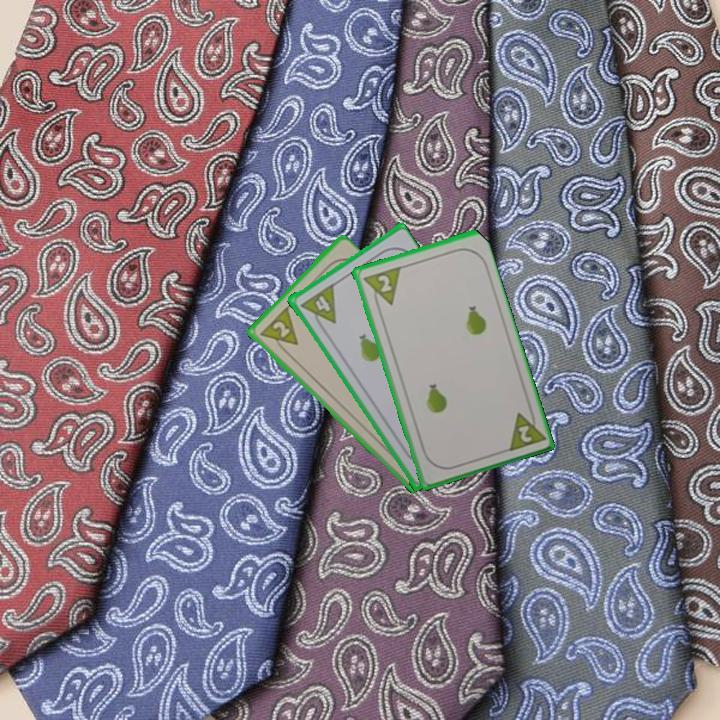2p: (255, 304, 301, 358), (504, 404, 547, 454), (374, 271, 394, 295)
4p: (296, 281, 339, 333)
